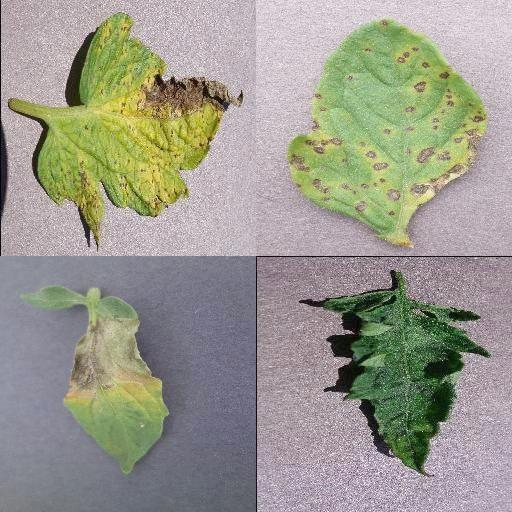Late Blight: (17, 284, 171, 478)
Mosaic Virus: (320, 288, 494, 478)
Septoria: (35, 14, 245, 251), (286, 17, 488, 247)
